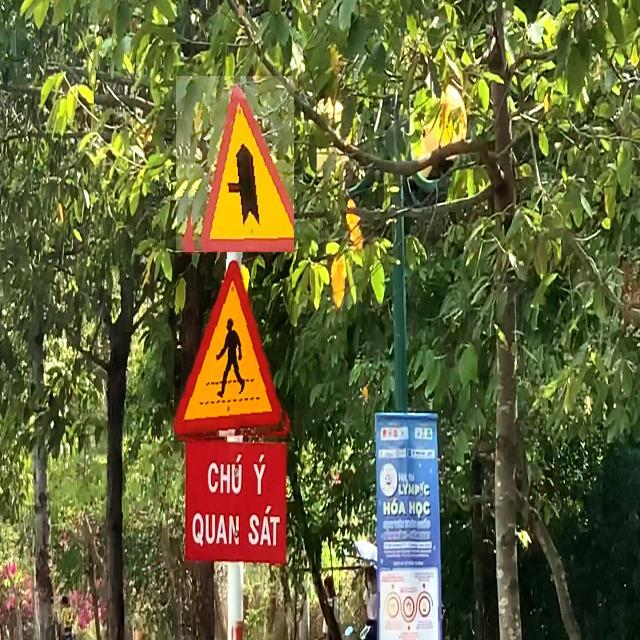W-207c: (177, 76, 295, 261)
W-224: (174, 253, 294, 443)
